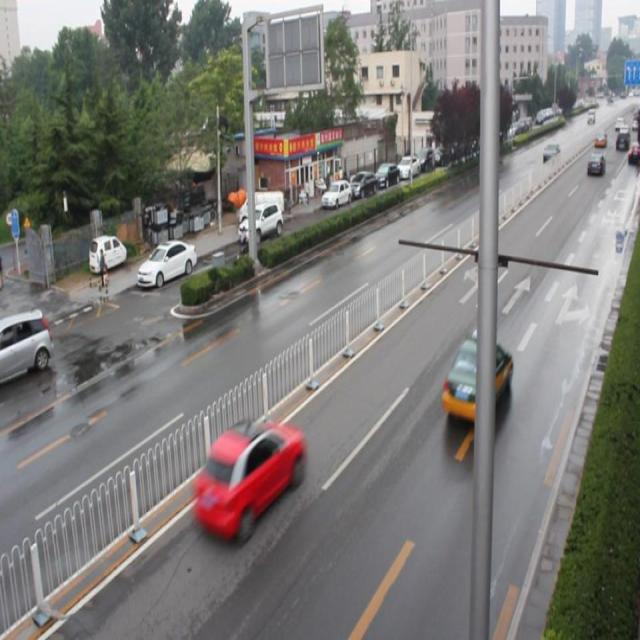car: (190, 415, 303, 545), (440, 332, 512, 428)
